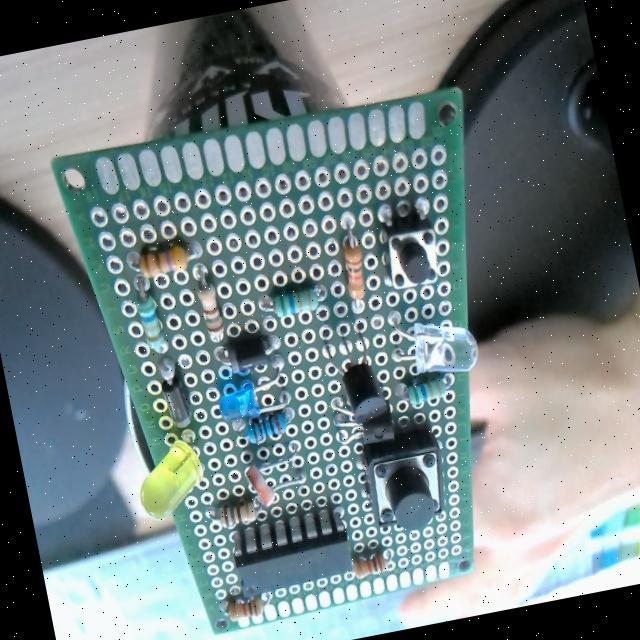IC: (230, 506, 358, 599)
cds: (225, 451, 323, 514)
diode: (216, 334, 274, 376), (160, 374, 193, 431)
led: (382, 298, 489, 394), (132, 437, 212, 525), (218, 374, 291, 424)
resistor: (129, 270, 169, 356), (195, 270, 228, 344), (338, 238, 371, 302), (136, 243, 191, 281), (268, 285, 323, 320), (242, 411, 290, 445), (404, 376, 448, 408), (218, 500, 259, 530), (225, 594, 266, 624), (351, 548, 386, 580)
switch: (356, 424, 454, 534), (374, 204, 446, 294)
transistor: (320, 331, 400, 420), (338, 404, 407, 452)
